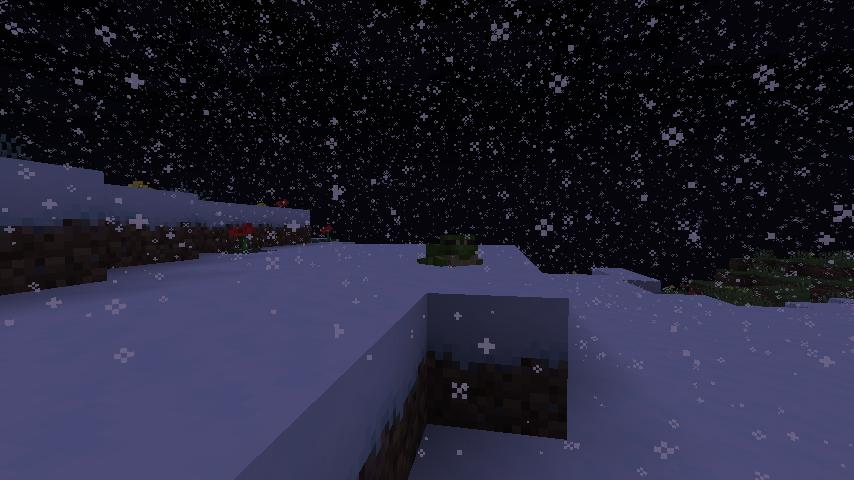frog: (416, 229, 486, 271)
